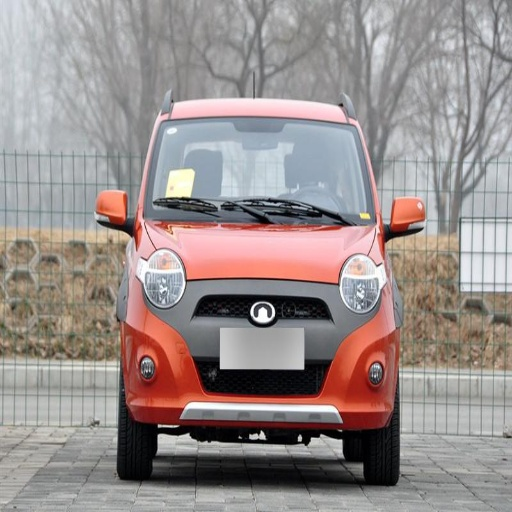front_bumper: (128, 280, 394, 425)
hood: (145, 212, 382, 283)
left_mirror: (386, 197, 425, 238)
right_mirror: (96, 190, 130, 228)
trunk: (151, 294, 226, 353)
